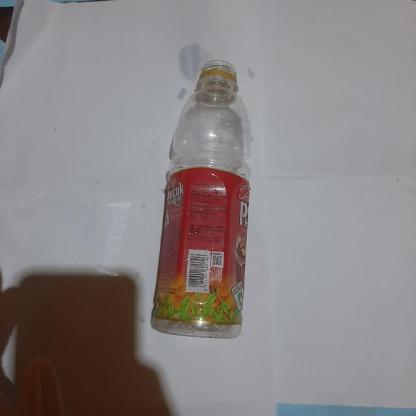Plastic Bottle: (154, 54, 256, 350)
